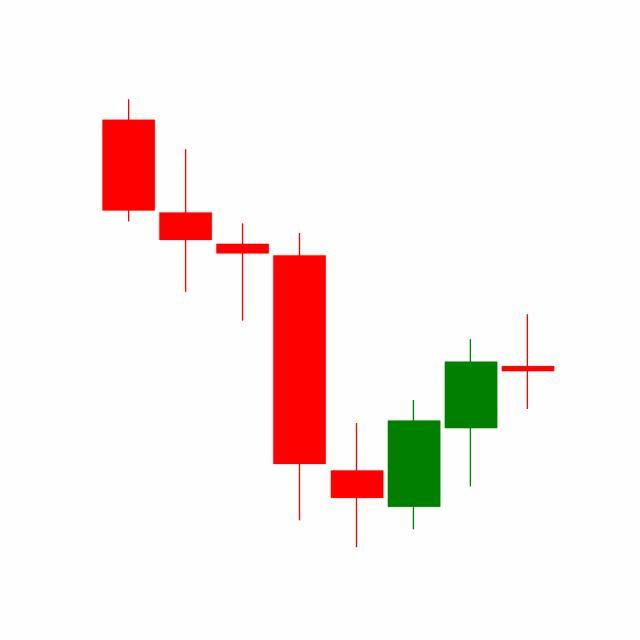Three Outside Up-Down: (328, 336, 500, 549)
